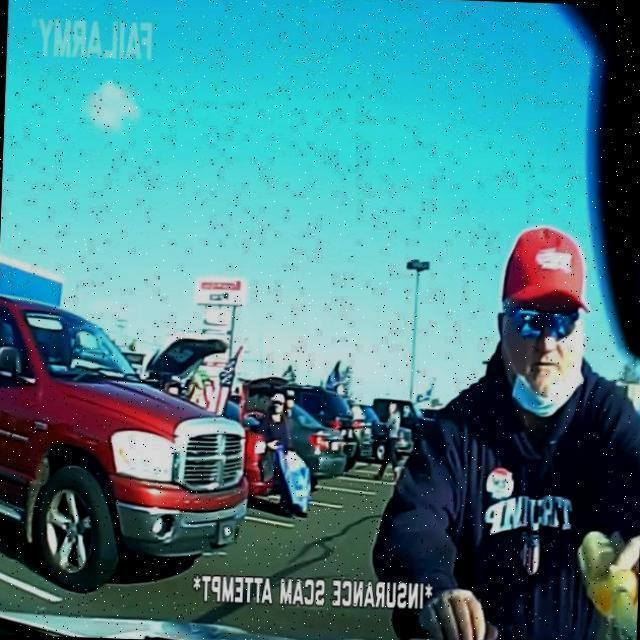person: (373, 218, 640, 640)
